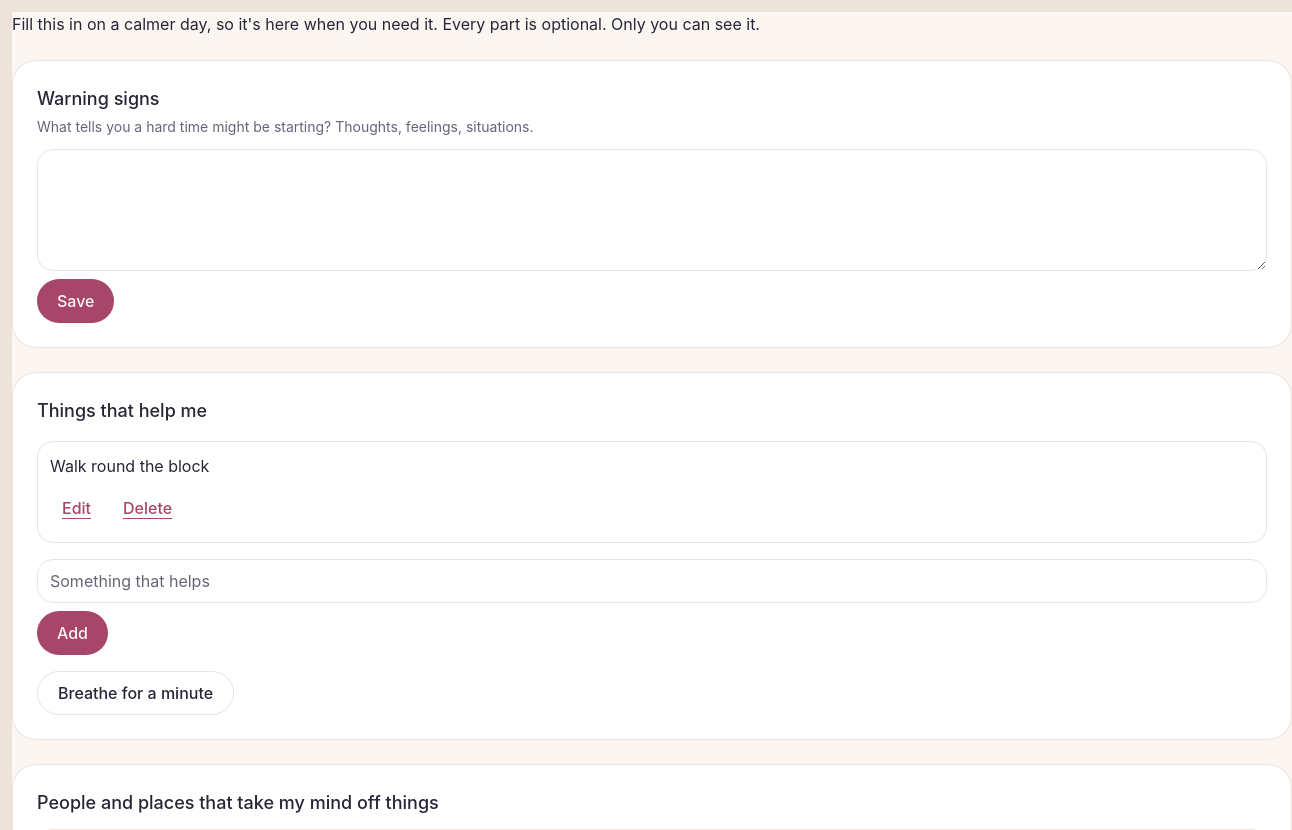
Test: SafetyPlanEditor › a text part saves with its own Save, and says Saved.
The image size is (1292, 830).
expect the button with test id "plan-warning_signs-save" is disabled: met, box [37,279,114,323]
In the text box with test id "plan-warning_signs-text": (652, 210) [37,149,1267,271], type "Not sleeping"
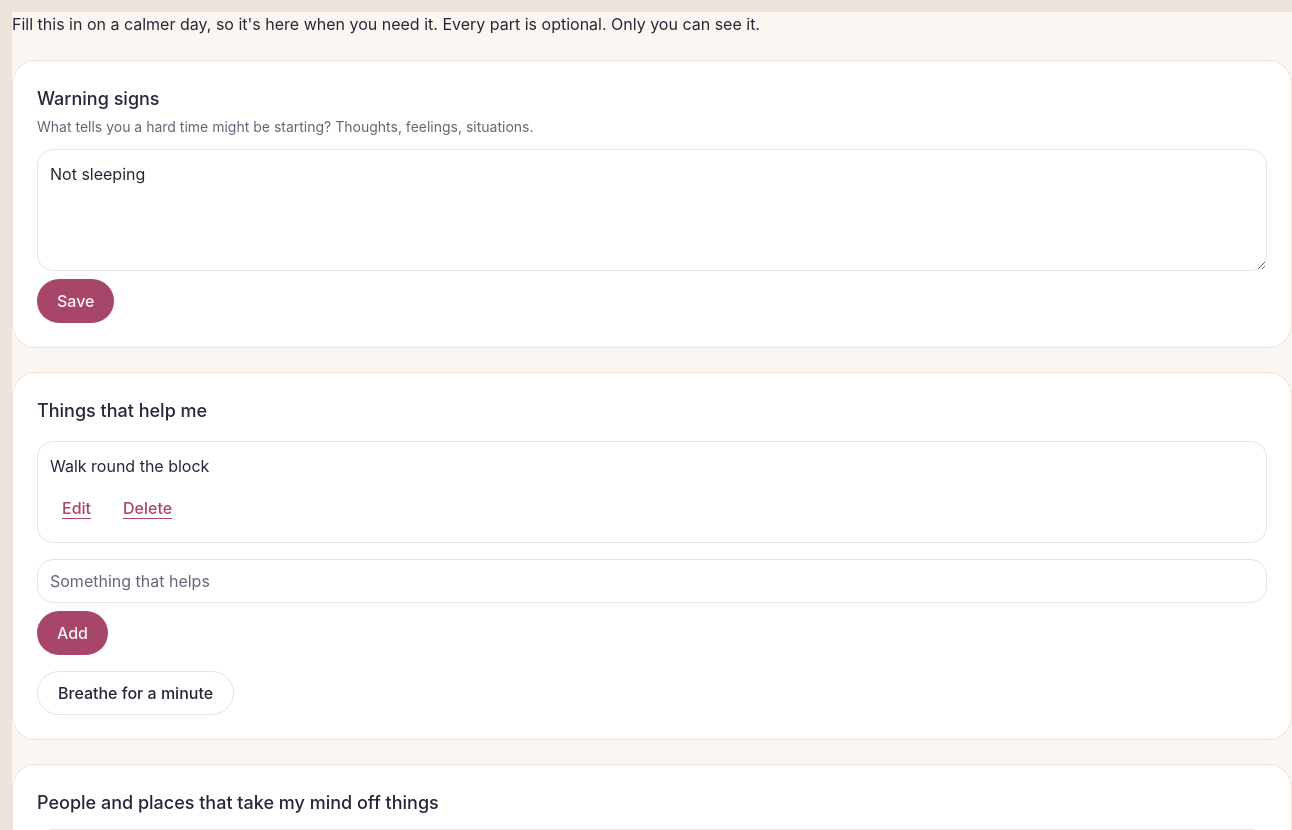
Click the button with test id "plan-warning_signs-save": click(76, 301) [37,279,114,323]
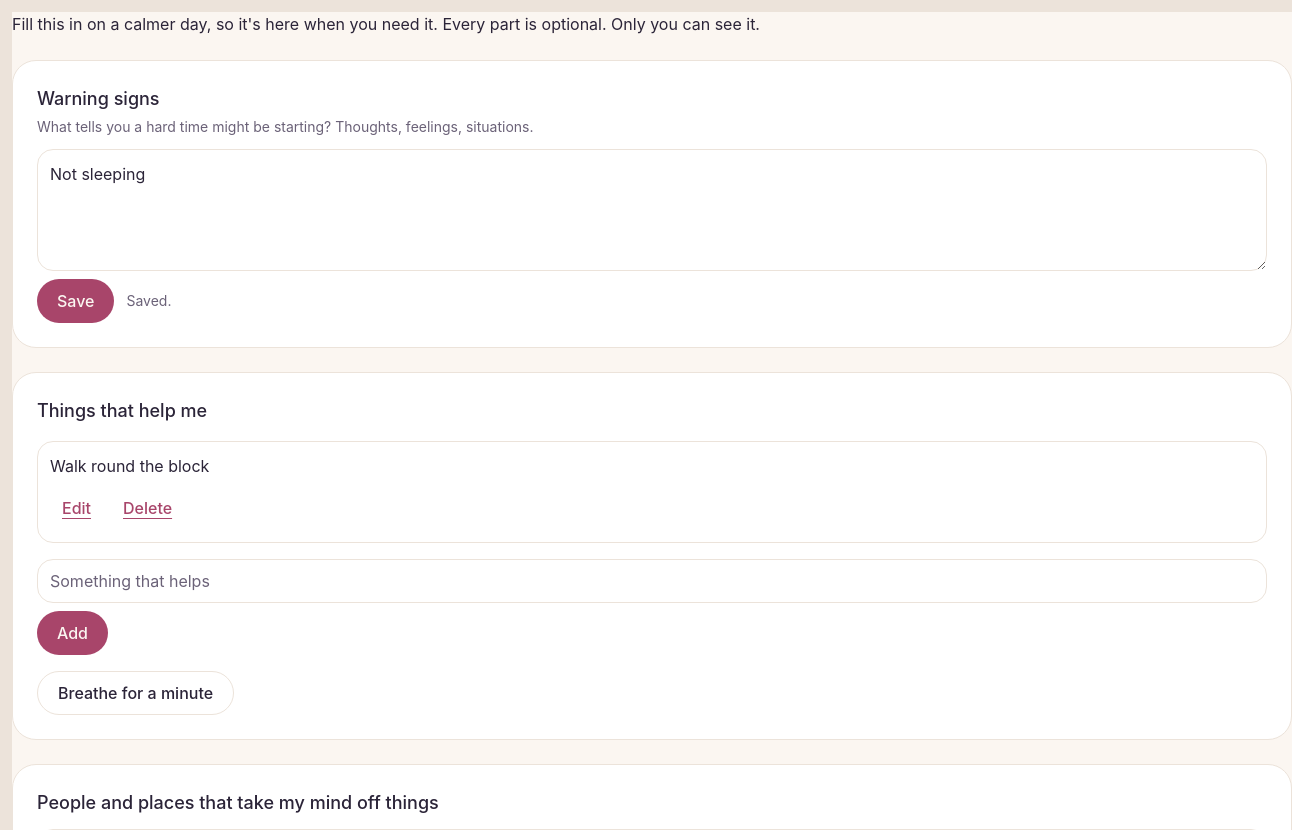
expect the message with test id "plan-warning_signs-saved" reads "Saved.": met, box [126,292,172,309]
